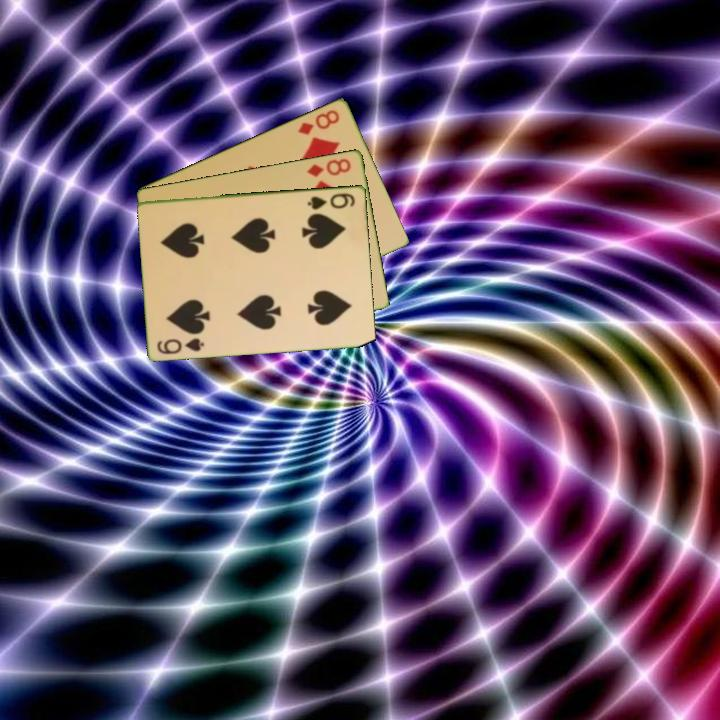6s: (305, 189, 358, 212), (154, 334, 207, 357)
8d: (294, 106, 342, 137), (303, 154, 354, 180)
